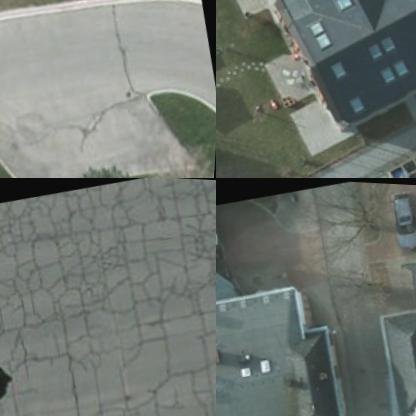car: (380, 185, 415, 248)
